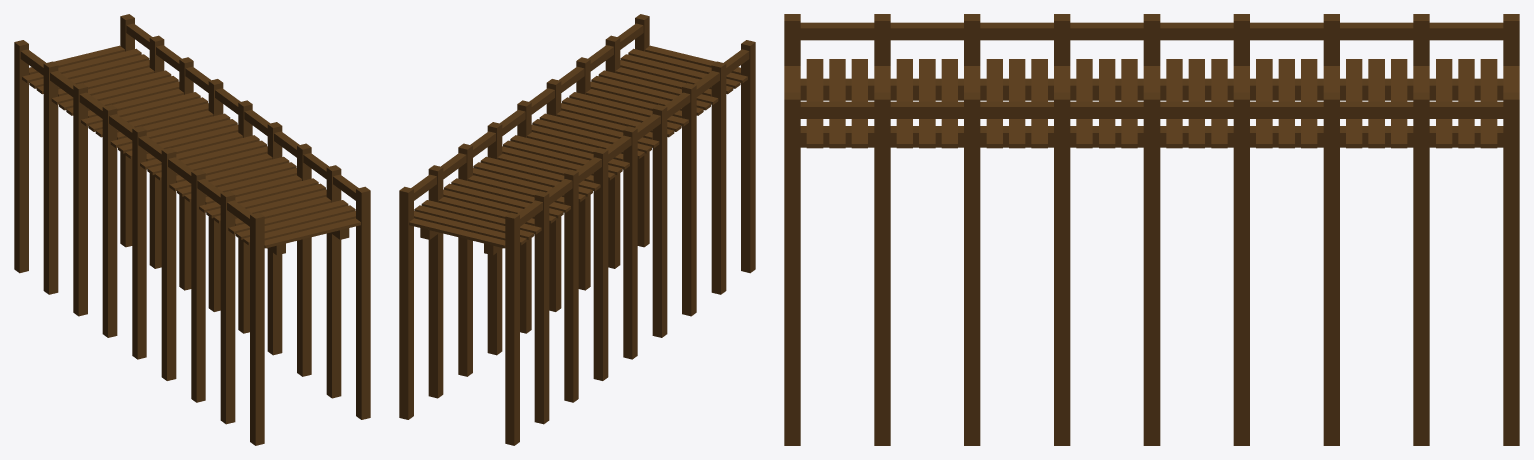
The model's file is JembatanKayu.fbx.
3 renders of one model, left to right at view 1: azimuth 30°, elevation 25°; view 2: azimuth 150°, elevation 25°; view 3: azimuth 270°, elevation 25°, orthographic. The views are drawn at different scales.
Parts seen in each view (by area): view 1: Plane.001, Plane, Cube.001; view 2: Plane.001, Plane, Cube.001; view 3: Plane.001, Plane, Cube.001, Cube.
Boxes of the visible parts, bbox=[...] form: Plane.001: bbox=[14, 14, 370, 445]; Plane: bbox=[22, 45, 360, 248]; Cube.001: bbox=[20, 23, 358, 226]; Plane.001: bbox=[399, 14, 755, 445]; Plane: bbox=[409, 45, 747, 248]; Cube.001: bbox=[411, 23, 749, 226]; Plane.001: bbox=[784, 14, 1519, 445]; Plane: bbox=[784, 59, 1519, 148]; Cube.001: bbox=[800, 22, 1503, 118]; Cube: bbox=[800, 78, 1503, 147].
Size of the model in its own units: 1236 by 2330 by 4484.
